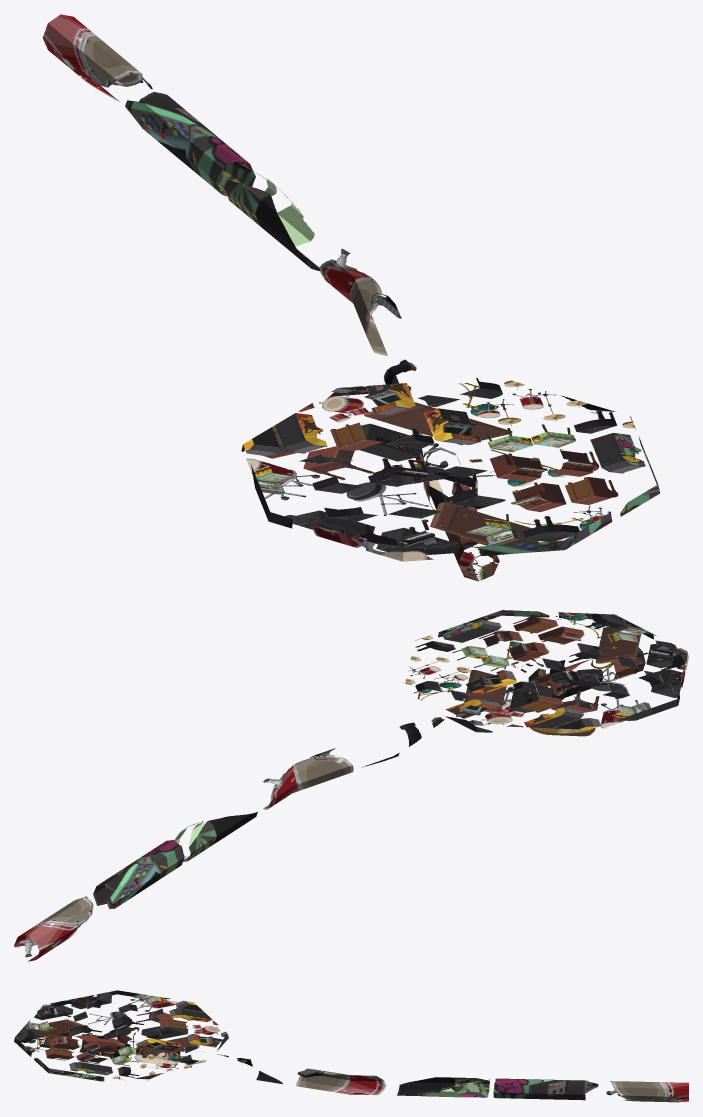
The picture shows the model from 3 angles, top to bottom: view 1: azimuth 30°, elevation 25°; view 2: azimuth 150°, elevation 25°; view 3: azimuth 270°, elevation 25°; orthographic projection. The views are drawn at different scales.
Size of the model in its own units: 0.628 by 0.0844 by 1.92.
